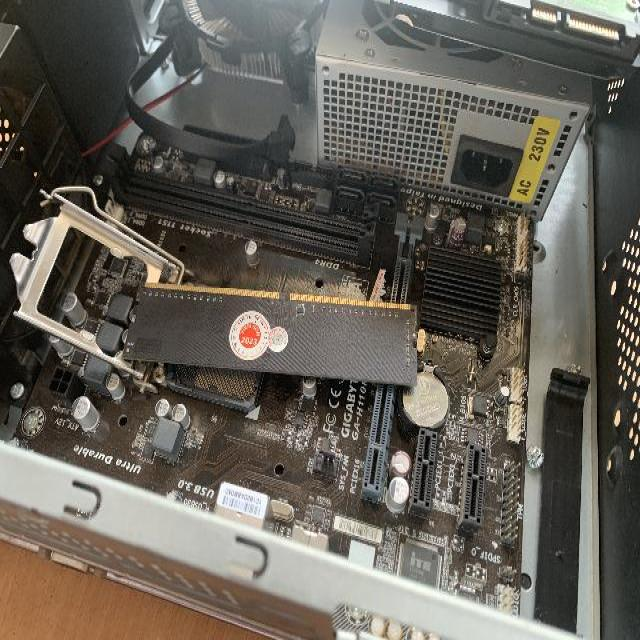Mainboard: (14, 180, 528, 640)
PSU: (300, 0, 636, 228)
RAM: (122, 278, 420, 389)
